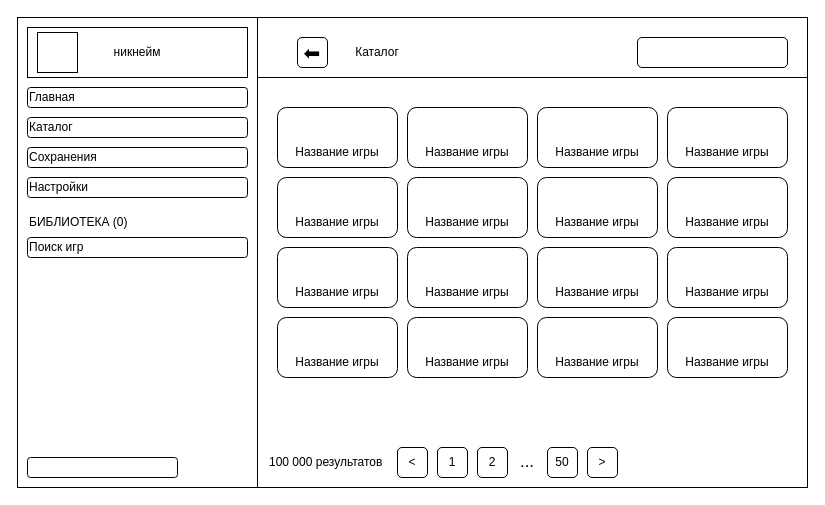
Some shapes in this 825 by 505 pixel diagram are drawn without their labels. The centre of each missing label's shape, as x and y in pixels:
"avatar" goes at [57,52].
"Добавить стороннюю игру" goes at [102,467].
"Поиск игры... 🔍" goes at [712,52].
